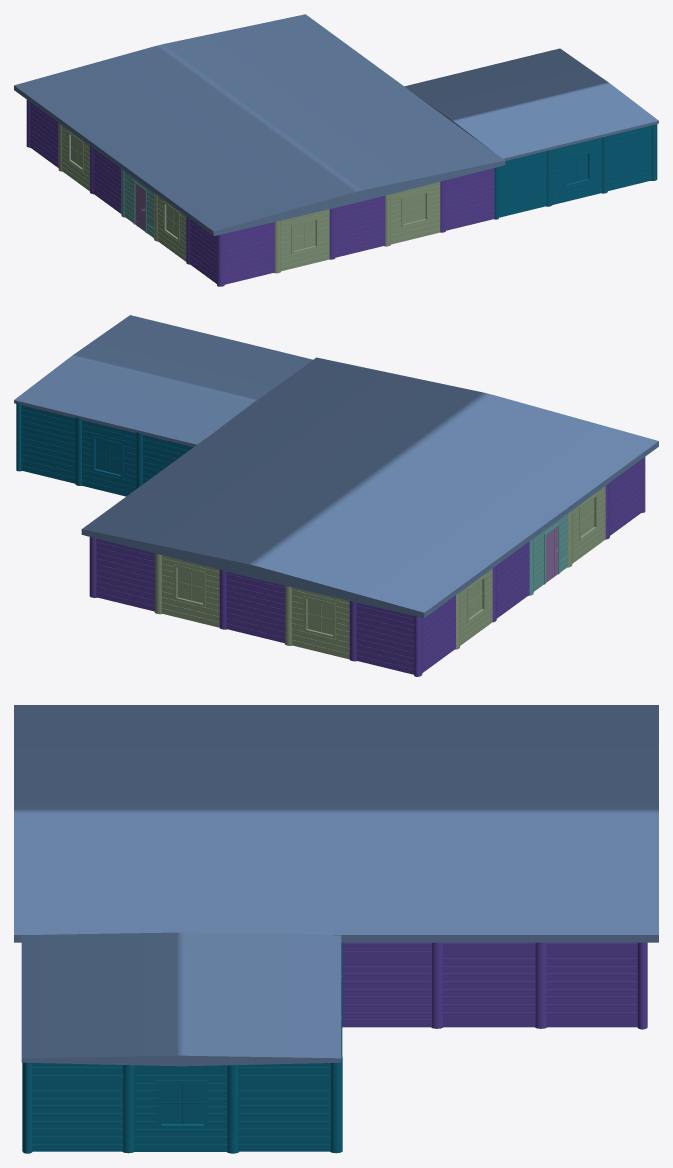
File: caba;a.fbx
3 renders of one model, top to bottom at view 1: azimuth 30°, elevation 25°; view 2: azimuth 150°, elevation 25°; view 3: azimuth 270°, elevation 25°, orthographic. The views are drawn at different scales.
Parts seen in each view (by area): view 1: techo, peredes_sala, techo2, paredes_habitacion, pared2, pCube15; view 2: techo, peredes_sala, techo2, paredes_habitacion, pared2, pCube15; view 3: techo, techo2, paredes_habitacion, peredes_sala.
Part boxes in pixels (left/top/right/bottom): techo: left=14, top=14, right=505, bottom=235; peredes_sala: left=26, top=100, right=494, bottom=286; techo2: left=404, top=48, right=658, bottom=160; paredes_habitacion: left=494, top=124, right=657, bottom=219; pared2: left=121, top=169, right=153, bottom=237; pCube15: left=135, top=184, right=145, bottom=231; techo: left=81, top=357, right=658, bottom=618; peredes_sala: left=89, top=457, right=645, bottom=676; techo2: left=14, top=315, right=312, bottom=446; paredes_habitacion: left=16, top=402, right=193, bottom=496; pared2: left=528, top=513, right=567, bottom=595; pCube15: left=546, top=526, right=558, bottom=582; techo: left=14, top=705, right=658, bottom=942; techo2: left=21, top=932, right=341, bottom=1066; paredes_habitacion: left=22, top=942, right=342, bottom=1153; peredes_sala: left=342, top=942, right=647, bottom=1029.
Bounding box in the file's own units: 28.42 × 3.92 × 21.96.
